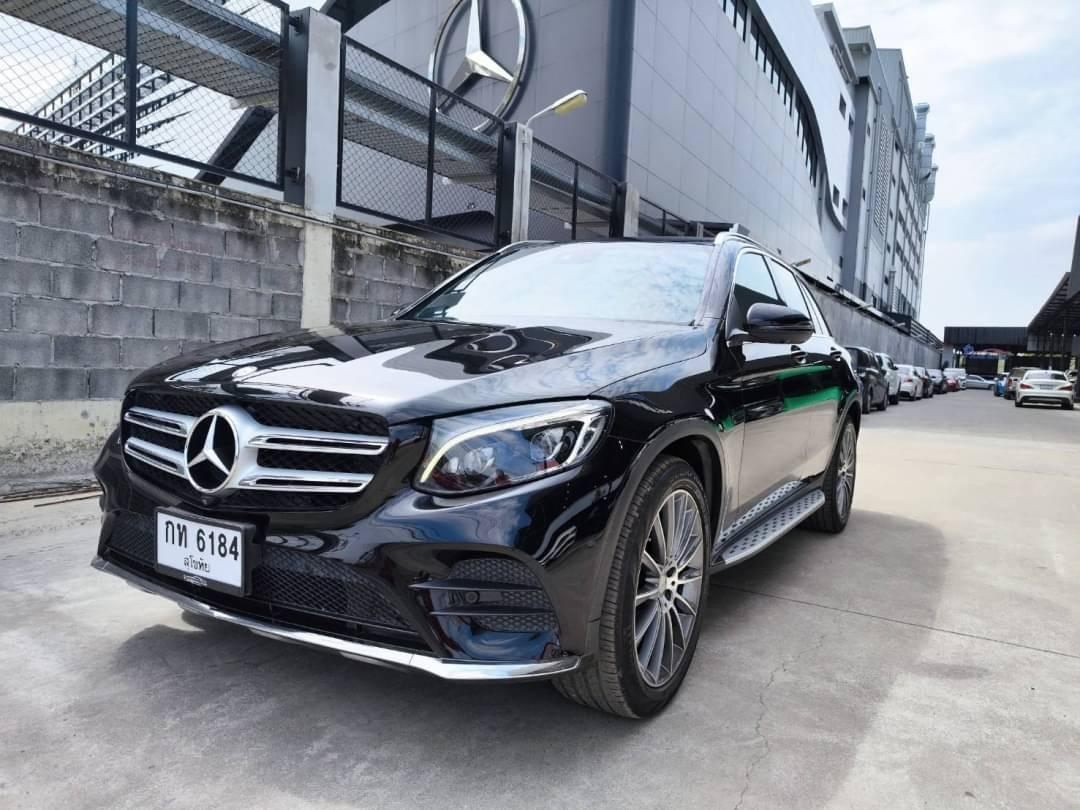license-plate: (148, 499, 252, 614)
